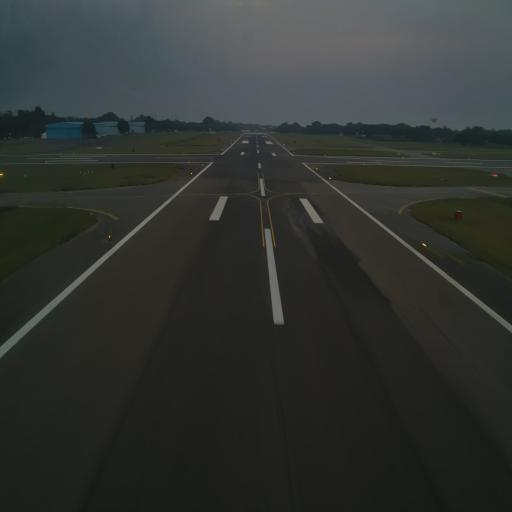on: (107, 232, 114, 242), (421, 239, 427, 249)
